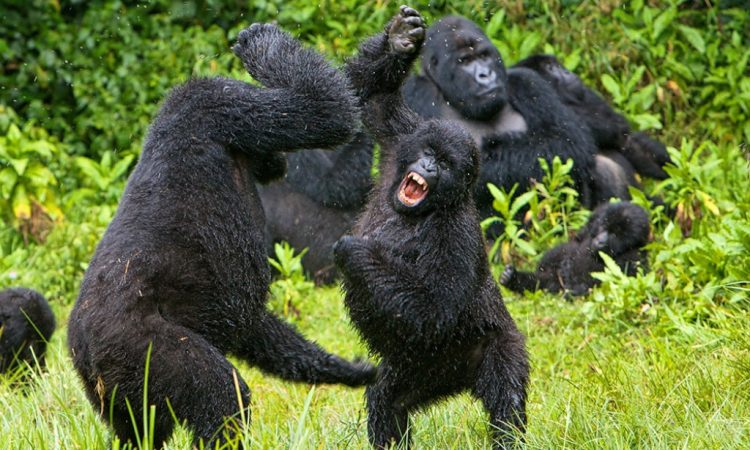Gorilla: (97, 69, 331, 424), (365, 113, 510, 436), (412, 17, 559, 128), (526, 203, 660, 300)
